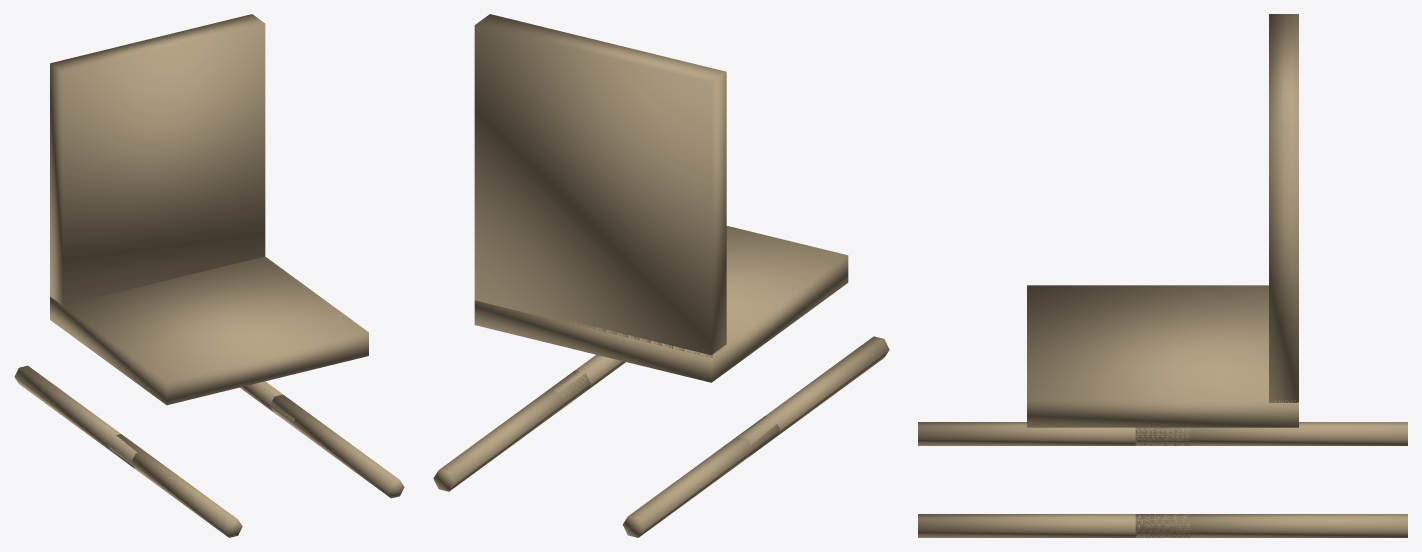
Rendered from furn_chair.glb.
3 renders of one model, left to right at view 1: azimuth 30°, elevation 25°; view 2: azimuth 150°, elevation 25°; view 3: azimuth 270°, elevation 25°, orthographic. The views are drawn at different scales.
Visible parts, largest first — view 1: back, seat, leg_0.18_0.18, leg_-0.18_0.18, leg_-0.18_-0.18, leg_0.18_-0.18; view 2: back, seat, leg_0.18_-0.18, leg_-0.18_-0.18, leg_-0.18_0.18, leg_0.18_0.18; view 3: seat, back, leg_0.18_-0.18, leg_0.18_0.18, leg_-0.18_-0.18, leg_-0.18_0.18.
Part boxes in pixels (box(x1,y1,x2,y2)): back: box(50, 14, 265, 307); seat: box(50, 256, 368, 405); leg_0.18_0.18: box(270, 394, 404, 498); leg_-0.18_0.18: box(108, 434, 242, 537); leg_-0.18_-0.18: box(14, 365, 137, 468); leg_0.18_-0.18: box(240, 381, 294, 422); back: box(474, 14, 726, 357); seat: box(474, 226, 848, 382); leg_0.18_-0.18: box(433, 370, 590, 491); leg_-0.18_-0.18: box(622, 416, 780, 537); leg_-0.18_0.18: box(739, 336, 889, 457); leg_0.18_0.18: box(553, 354, 625, 409); seat: box(1027, 285, 1298, 427); back: box(1269, 14, 1298, 402); leg_0.18_-0.18: box(1135, 514, 1407, 537); leg_0.18_0.18: box(918, 514, 1190, 537); leg_-0.18_-0.18: box(1135, 422, 1407, 445); leg_-0.18_0.18: box(918, 422, 1190, 445).
Bounding box in the file's own units: 0.45 × 0.7623 × 0.81.
